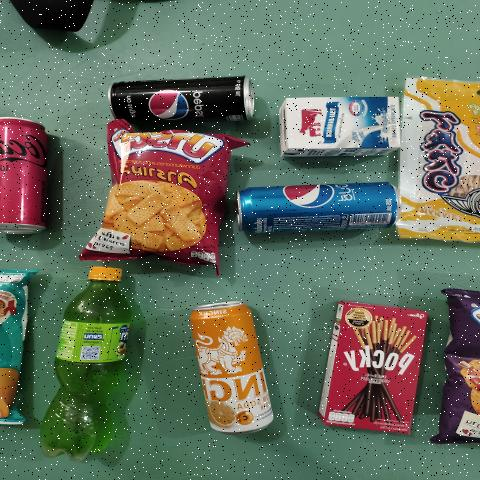fanta_green: (40, 265, 148, 457)
party_red: (89, 132, 239, 257)
pepsi_black: (109, 76, 260, 121)
pepsi_blue: (238, 177, 399, 232)
pokki: (316, 300, 432, 428)
singha_yellow: (188, 298, 281, 440)
thai_denmark: (280, 92, 403, 154)
